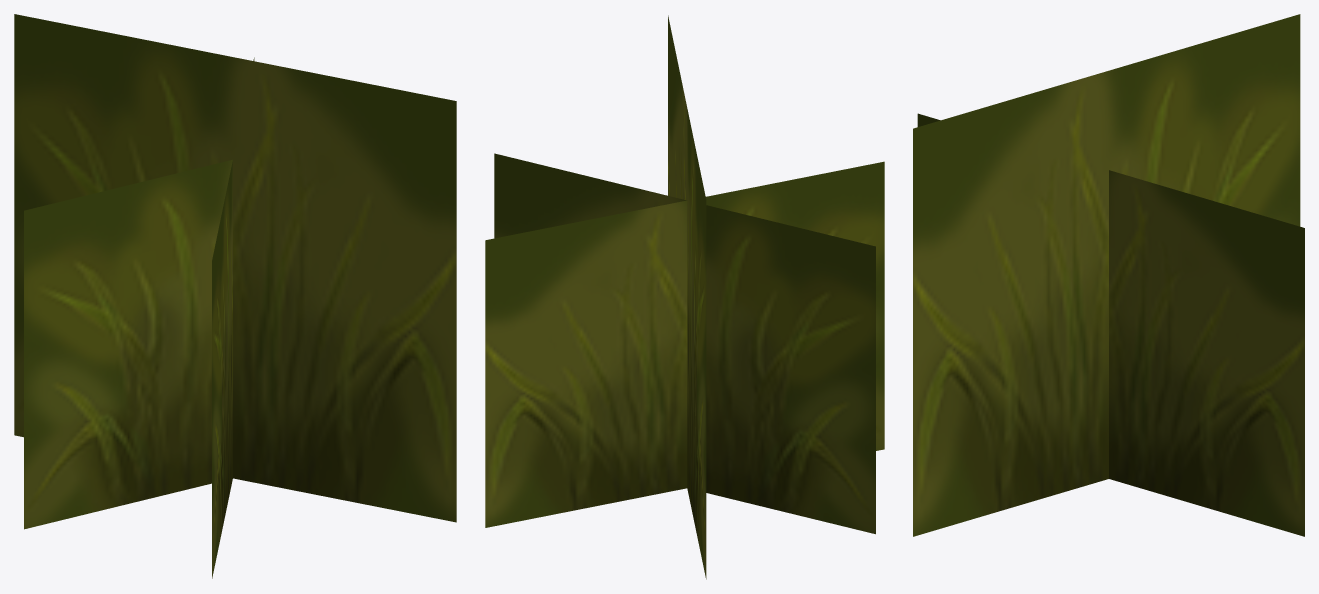
File: common_reed_8.FBX
The picture shows the model from 3 angles, left to right: view 1: azimuth 30°, elevation 25°; view 2: azimuth 150°, elevation 25°; view 3: azimuth 270°, elevation 25°; orthographic projection. The views are drawn at different scales.
Visible parts, largest first — view 1: Plane008; view 2: Plane008; view 3: Plane008.
Boxes of the visible parts, bbox=[...] form: Plane008: bbox=[14, 14, 456, 578]; Plane008: bbox=[485, 15, 884, 579]; Plane008: bbox=[913, 14, 1304, 536].
Bounding box in the file's own units: 86.47 × 82.39 × 71.64.
